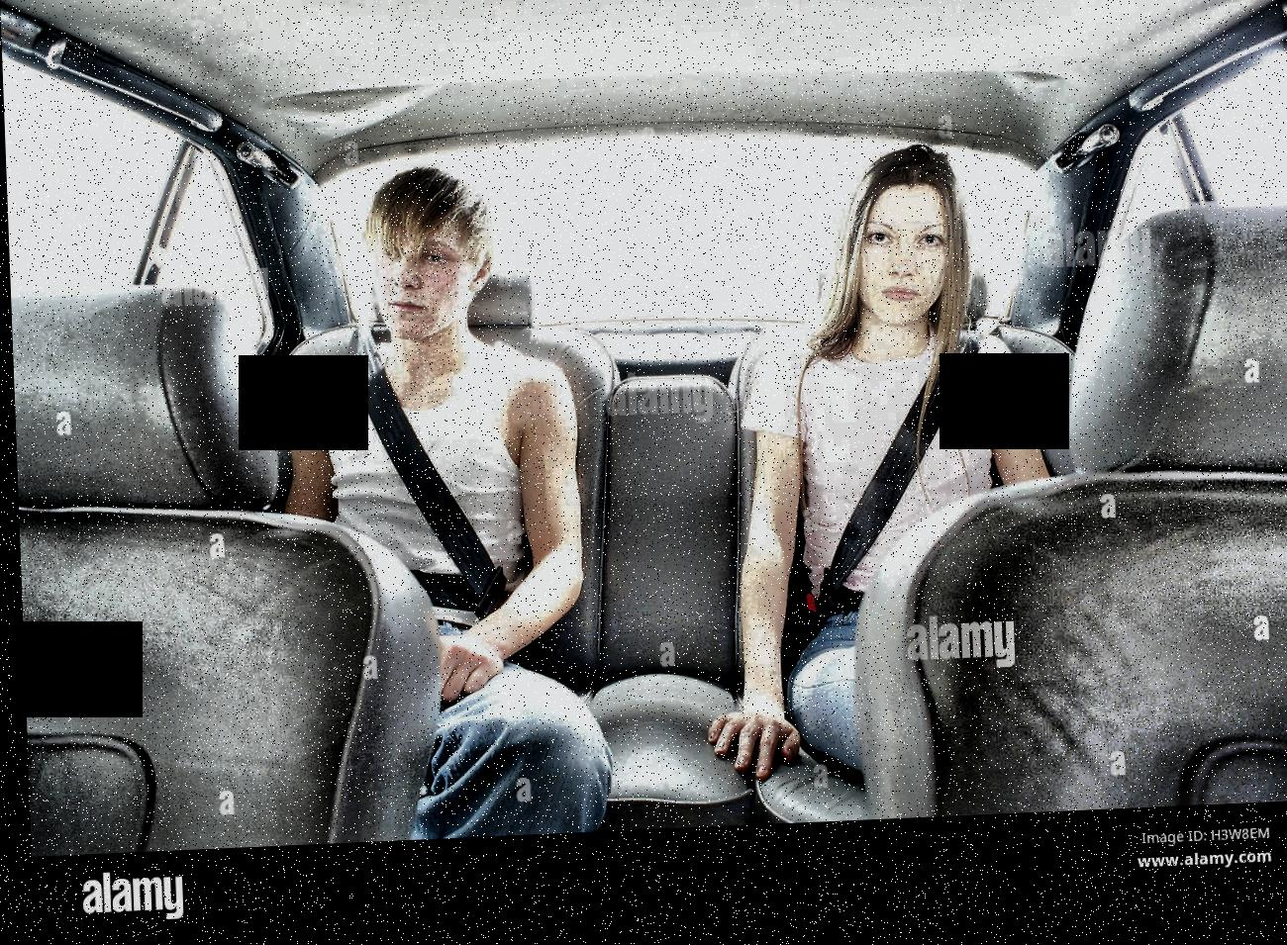seatbelt: (772, 307, 1039, 644), (346, 255, 515, 632)
